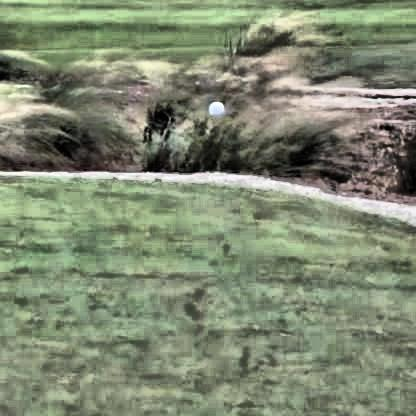golfball: (207, 98, 223, 114)
